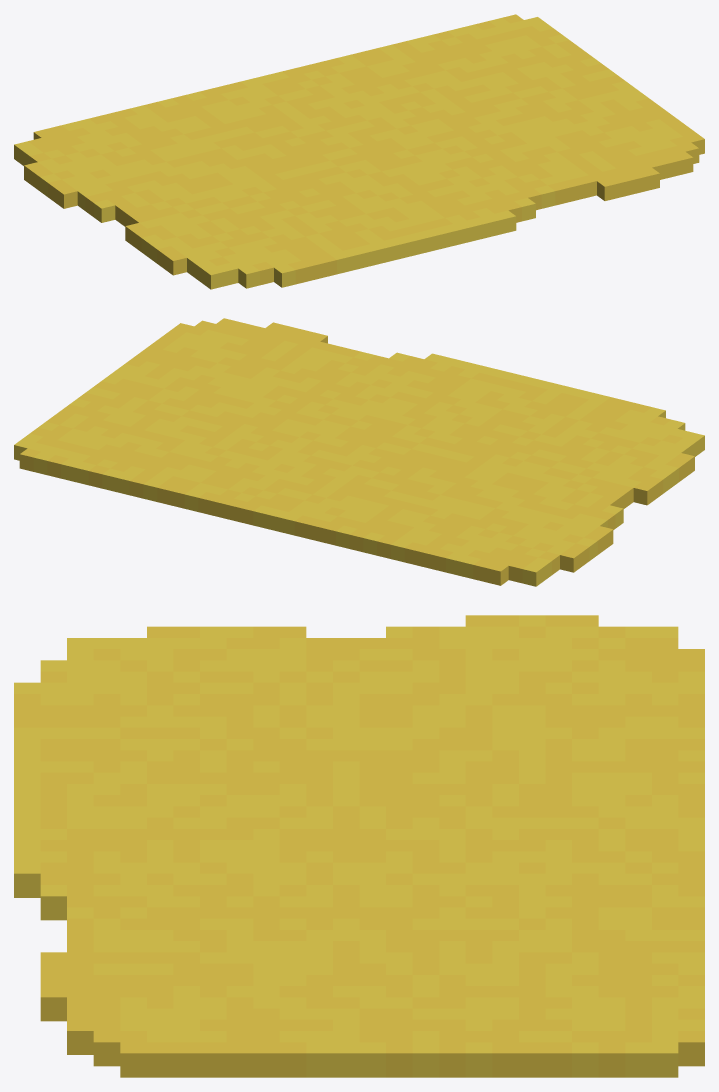
Rendered from farm-48.obj.
3 views of the same model, one above another, from view 1: azimuth 30°, elevation 25°; view 2: azimuth 150°, elevation 25°; view 3: azimuth 270°, elevation 25° (orthographic). The views are drawn at different scales.
Size of the model in its own units: 3.9 by 0.1 by 2.6.
Materials: 1 (1 with a texture image).
